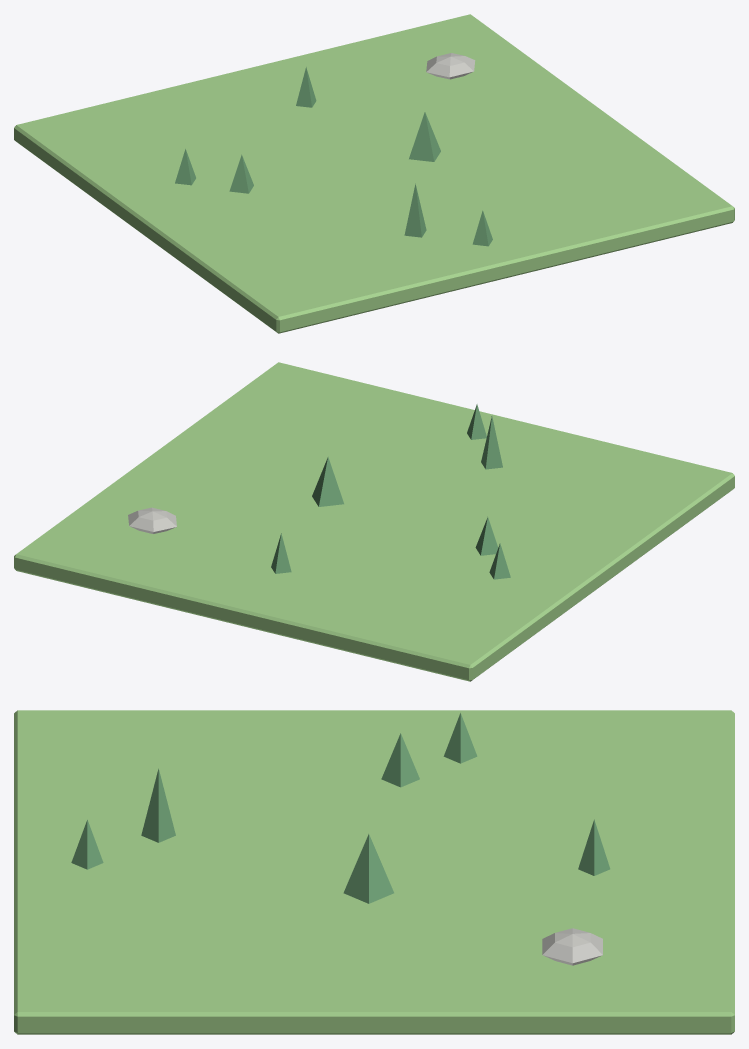
Rendered from grass-ground-tile.glb.
3 views of the same model, one above another, from view 1: azimuth 30°, elevation 25°; view 2: azimuth 150°, elevation 25°; view 3: azimuth 270°, elevation 25° (orthographic). The views are drawn at different scales.
Parts seen in each view (by area): view 1: grass-ground-tile; view 2: grass-ground-tile; view 3: grass-ground-tile.
Boxes of the visible parts, x1,y1,x2,y2 form: grass-ground-tile: (14,14,734,333); grass-ground-tile: (14,362,734,681); grass-ground-tile: (14,710,734,1034).
Size of the model in its own units: 4 by 0.5542 by 4.
